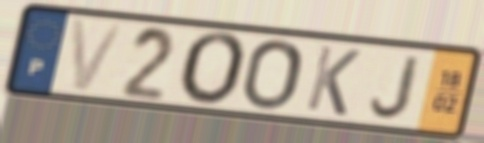2: (116, 25, 179, 104)
J: (367, 53, 425, 122)
K: (302, 43, 364, 119)
O: (177, 29, 251, 110), (240, 37, 306, 113)
V: (68, 16, 130, 94)
